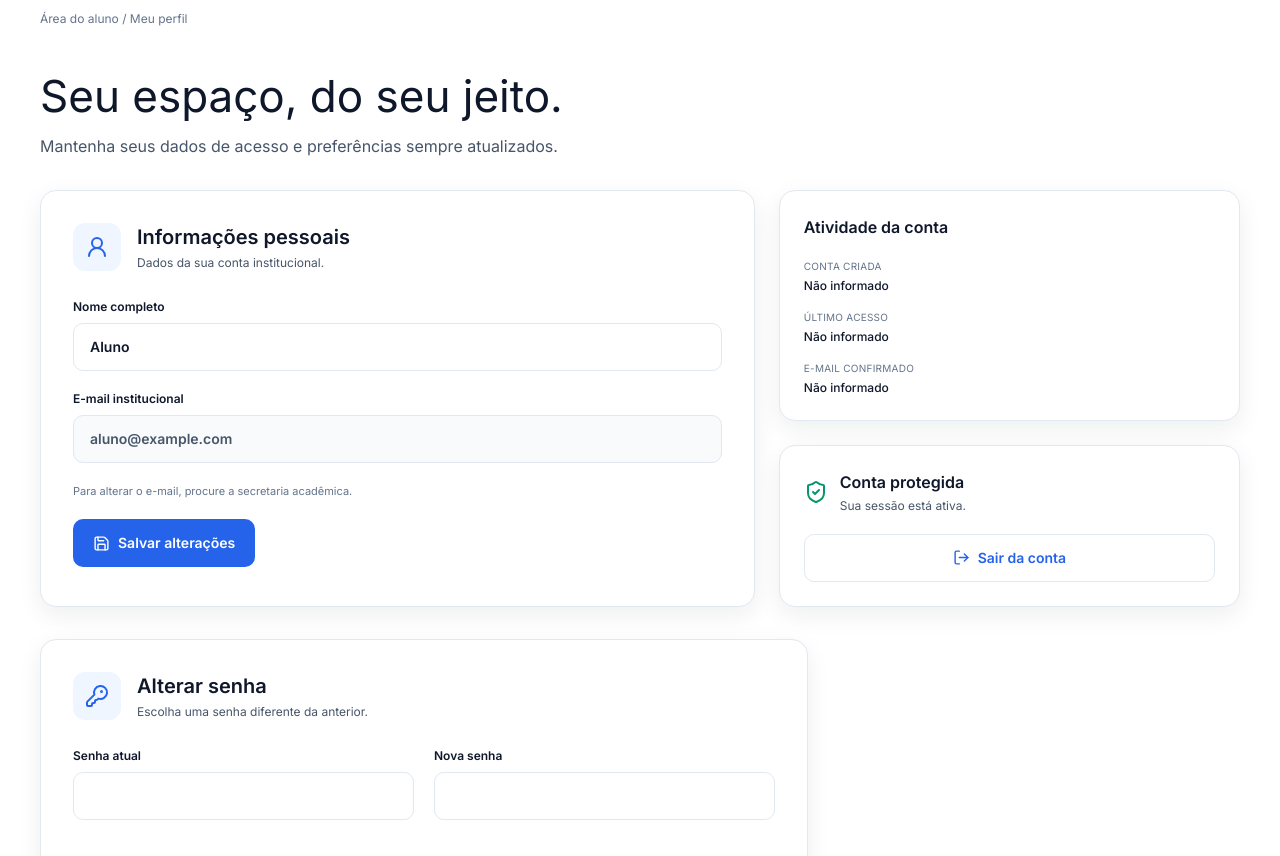
Test: exige a senha atual antes de alterar a senha
The width and height of the screenshot is (1280, 856).
Type "novaSenha123" into the password field labelled "Nova senha". click: (604, 796)
box: [434,772,775,820]
(page scrolled)
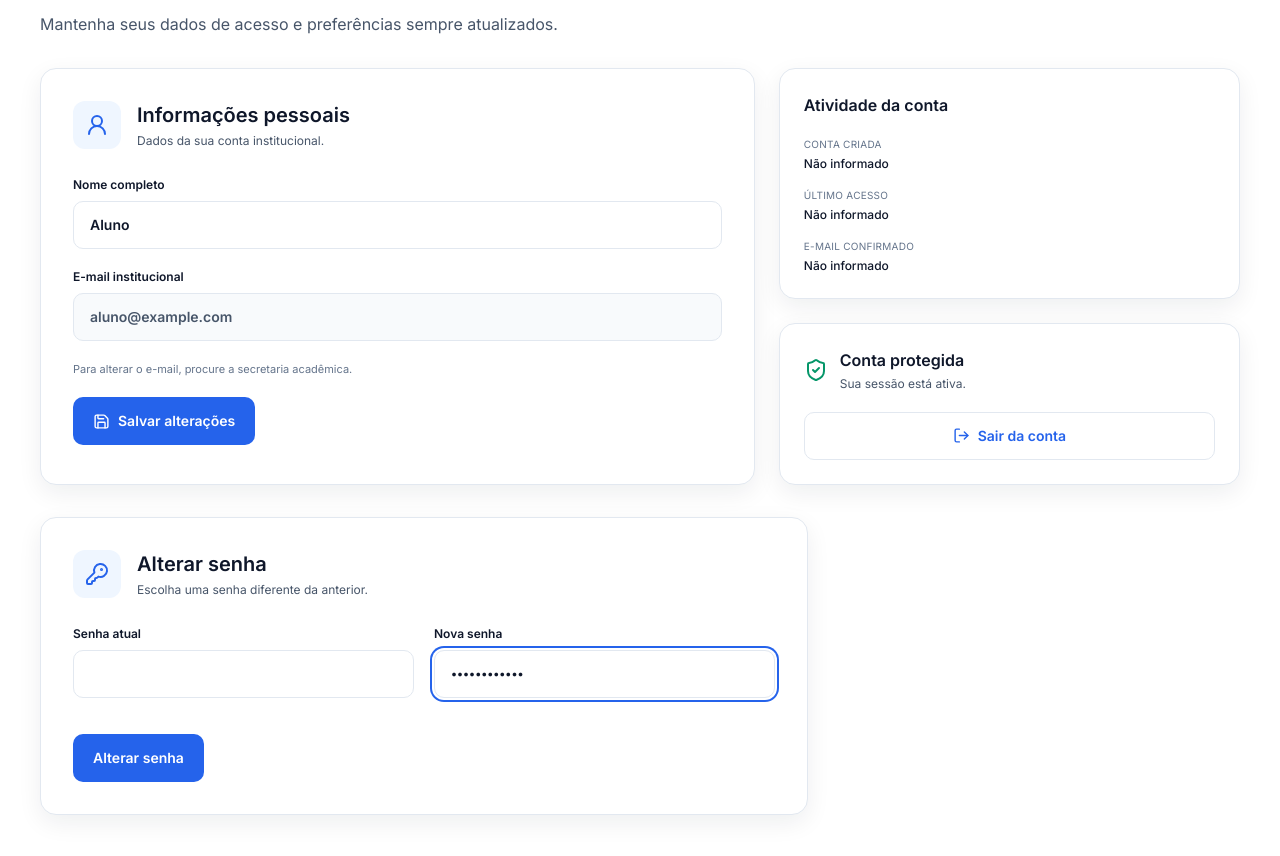
Click the button "Alterar senha". click: (138, 758)
box: [73,734,204,782]
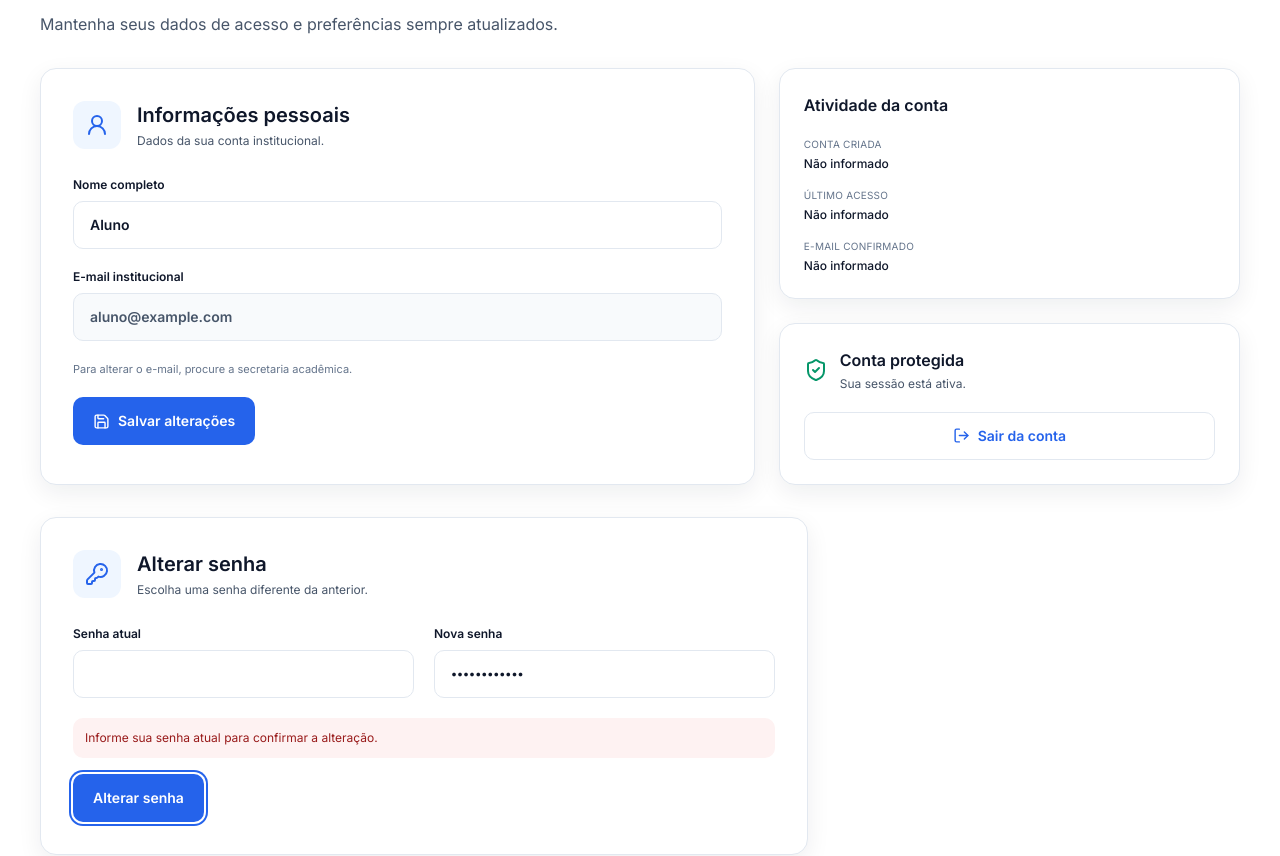
Check: the message shows "senha atual", box [85,730,378,745]
